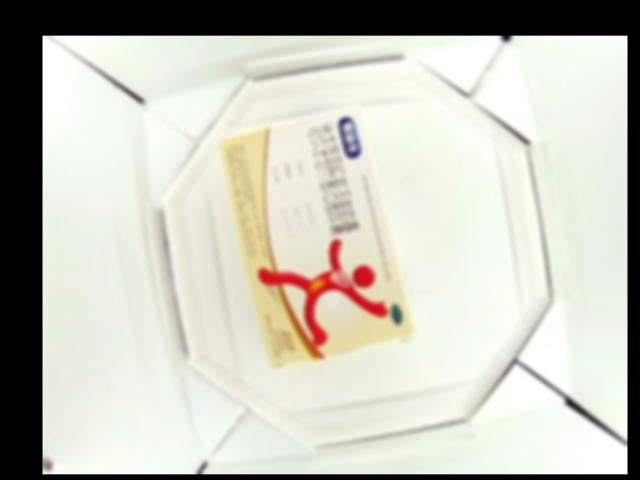Medicine: (217, 104, 410, 366)
